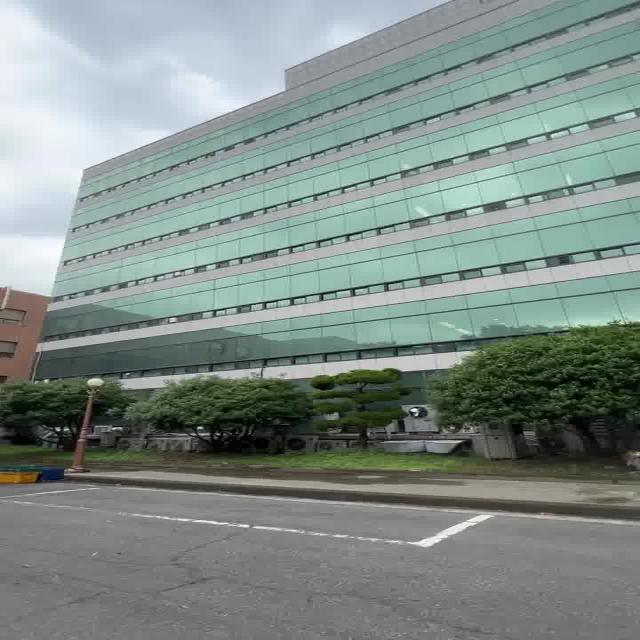building: (25, 24, 631, 321)
